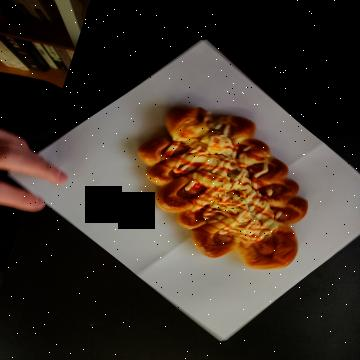pizza_bread: (110, 55, 274, 221)
